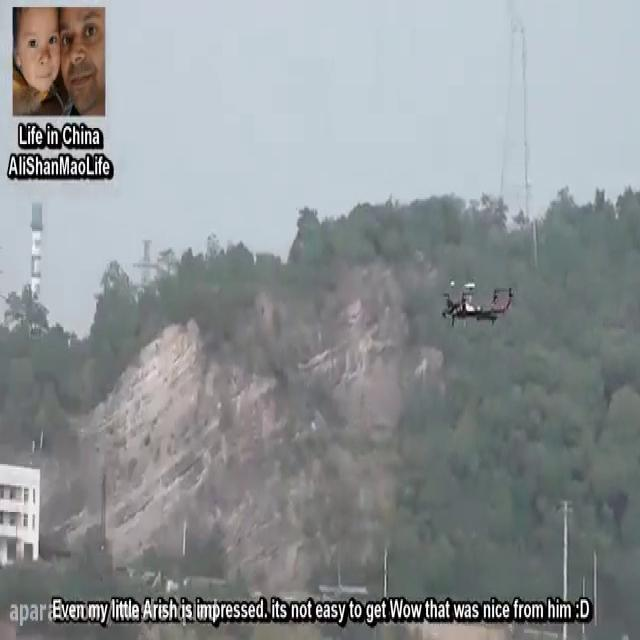drone: (438, 276, 517, 327)
